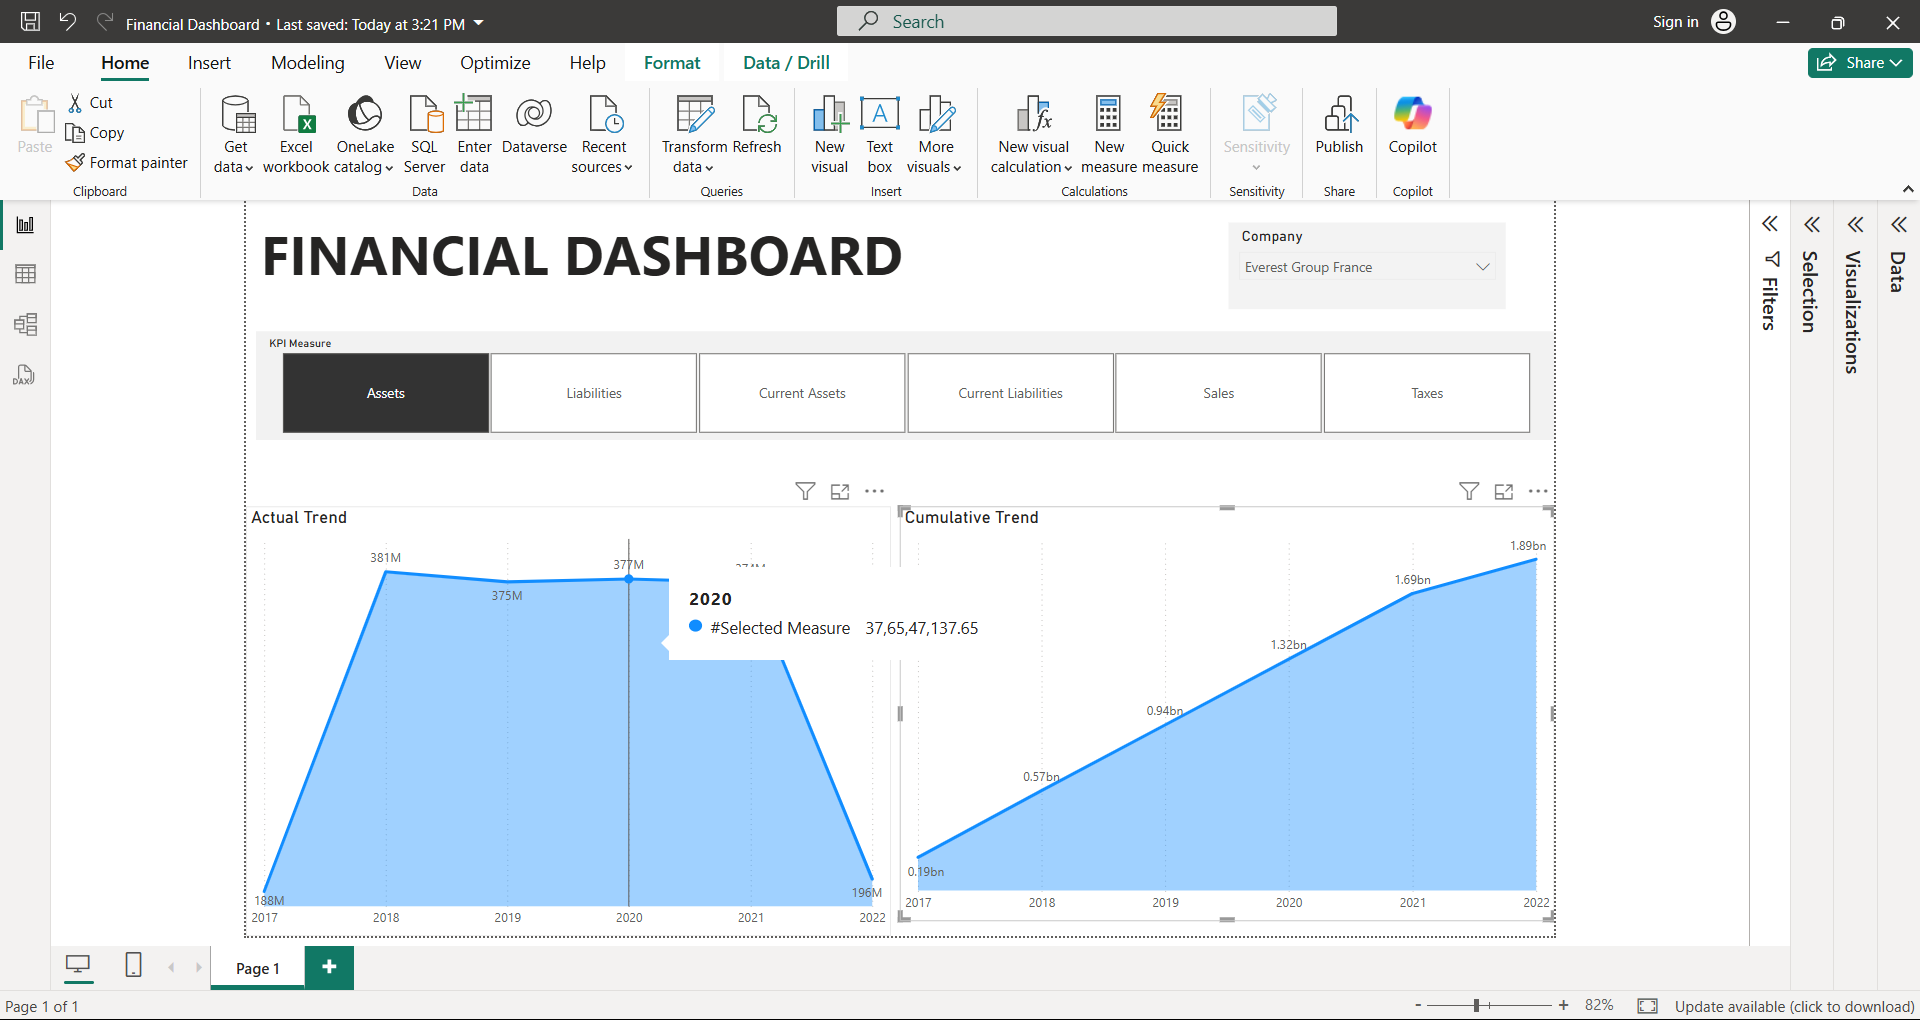

This screenshot's page, from the dashboard's own definition file:
{"tool":"powerbi","page":{"name":"Page 1","canvas":[1280,720],"ordinal":0},"visuals":[{"type":"textbox","box":[9.6,11,952.3,96.1],"z":0},{"type":"slicer","fields":{"Values":["Financials.Company"]},"box":[961.4,22.3,271.3,84.9],"z":1000},{"type":"slicer","fields":{"Values":["KPI Measure.KPI Measure"]},"box":[9.8,128.4,1270.5,106.4],"z":2000},{"type":"areaChart","title":"Actual Trend","fields":{"Category":["Financials.Month.Variation.Date Hierarchy.Year"],"Y":["Financials.#Selected Measure"]},"box":[0,299.6,631,420.7],"z":3000},{"type":"areaChart","title":"Cumulative Trend","fields":{"Category":["Financials.Month.Variation.Date Hierarchy.Year"],"Y":["Financials.#Running Sum"]},"box":[639.5,299.6,640.8,406],"z":3001}]}

Visuals, with their boxes on the page's 1280x720 design canvas (x1, y1, x2, y2). These are canvas units, not pixel positions in the 1920x1020 screenshot, which may show the page scaled, cropped or inside an application window:
textbox: locate(10, 11, 962, 107)
slicer - Financials.Company: locate(961, 22, 1233, 107)
slicer - KPI Measure.KPI Measure: locate(10, 128, 1280, 235)
"Actual Trend" areaChart: locate(0, 300, 631, 720)
"Cumulative Trend" areaChart: locate(640, 300, 1280, 706)
